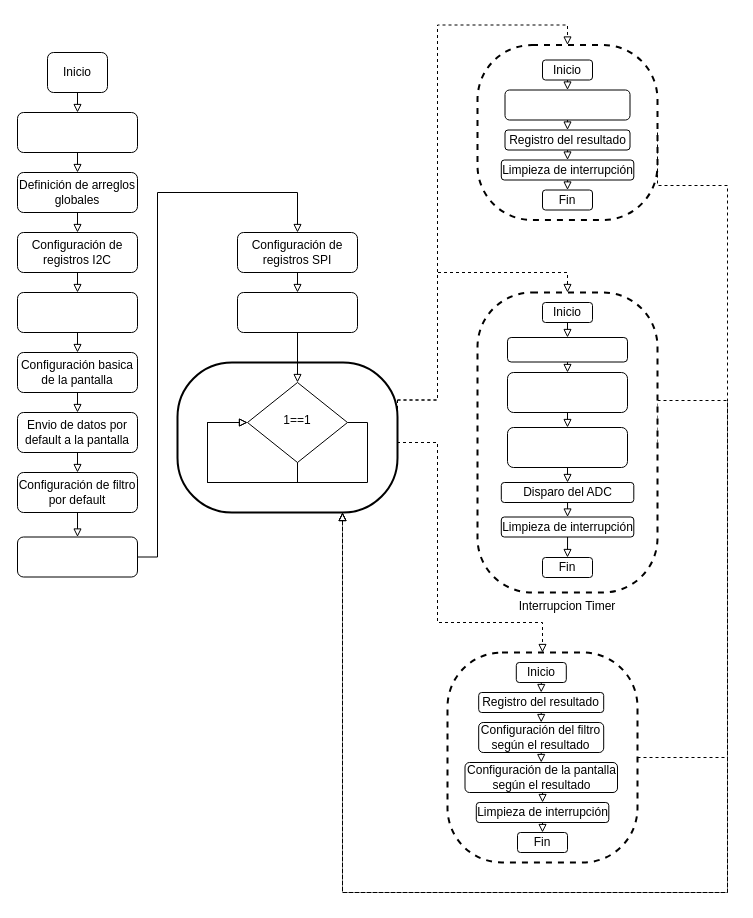
This 753x918 diagram has some shape labels left out. The box of each missing label's shape, as (x1, y1, x2, y2) in pixels:
Ciclo continuo: (176, 361, 398, 513)
Configuración de registros ADC: (236, 292, 358, 332)
Configuración de registros UART: (16, 536, 138, 577)
Corrimiento de la memoria: (504, 89, 630, 120)
Definición de constantes globales: (16, 112, 138, 152)
Envio del dato con SPI: (506, 426, 628, 468)
Interrupcion ADC: (476, 44, 658, 220)
Interrupcion UART: (446, 651, 638, 863)
Poleo para esperar que I2C este listo: (16, 292, 138, 332)
Salida = 0: (506, 336, 628, 362)
Salida = calculo del filtrado: (506, 372, 628, 412)
